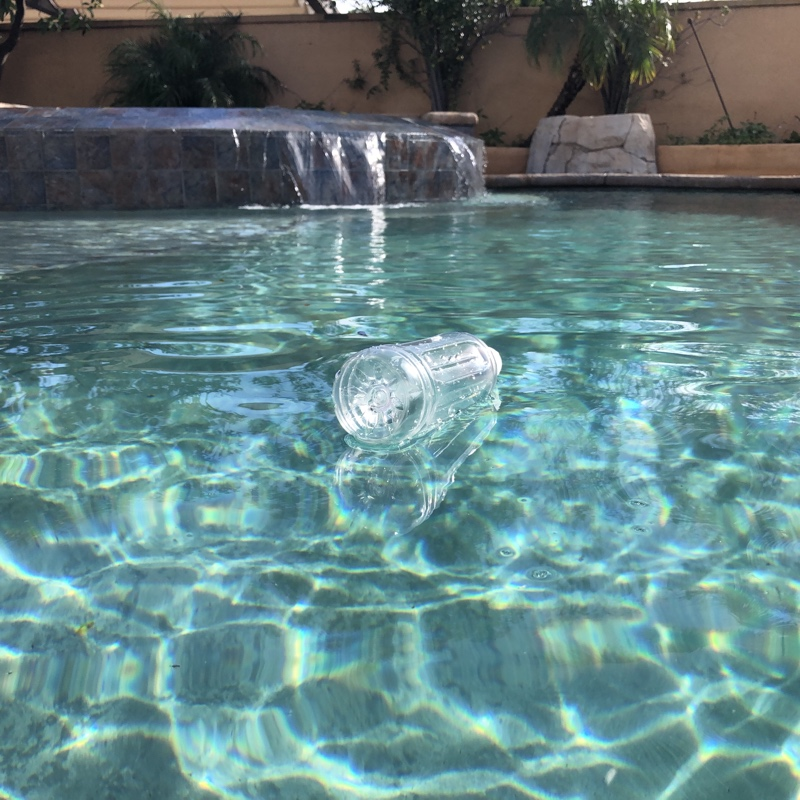Plastic Bottle: (329, 326, 505, 450)
